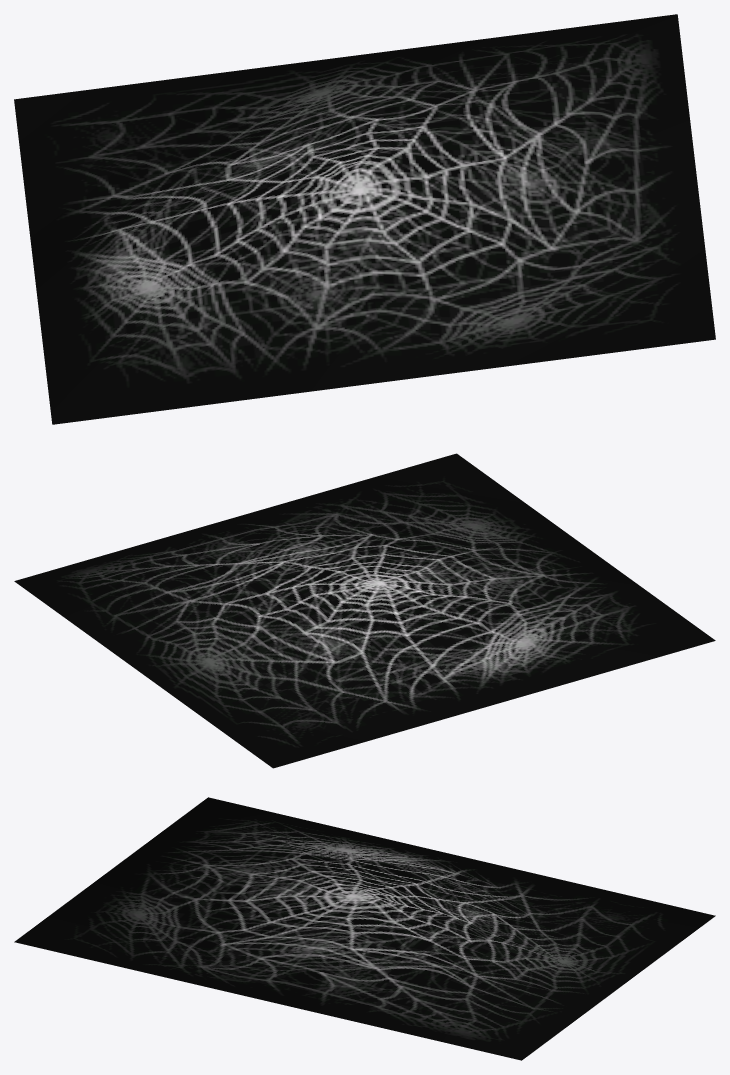
The model's file is MIRKWOOD_PLANE31.fbx.
3 views of the same model, one above another, from view 1: azimuth 30°, elevation 25°; view 2: azimuth 150°, elevation 25°; view 3: azimuth 270°, elevation 25° (orthographic). The views are drawn at different scales.
Parts seen in each view (by area): view 1: MIRKWOOD_PLANE31; view 2: MIRKWOOD_PLANE31; view 3: MIRKWOOD_PLANE31.
Part boxes in pixels (<box>): MIRKWOOD_PLANE31: <box>14,14,715,424</box>; MIRKWOOD_PLANE31: <box>14,453,715,768</box>; MIRKWOOD_PLANE31: <box>14,797,715,1060</box>.
Bounding box in the file's own units: 270468 × 23333 × 271865.
Materials: 1 (1 with a texture image).
